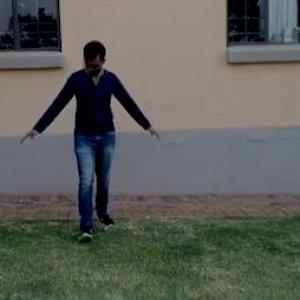land: (21, 16, 180, 252)
